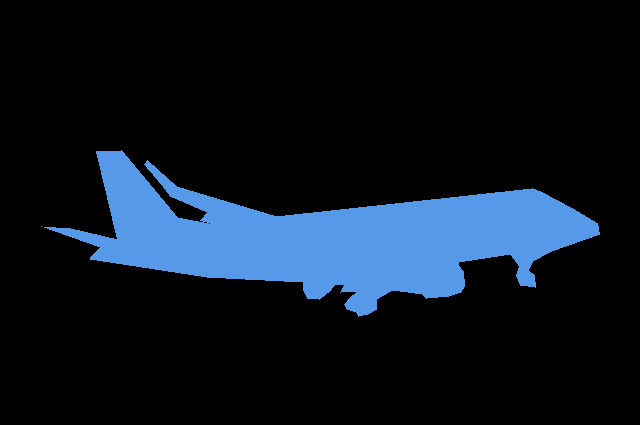Airplane: (41, 150, 600, 316)
